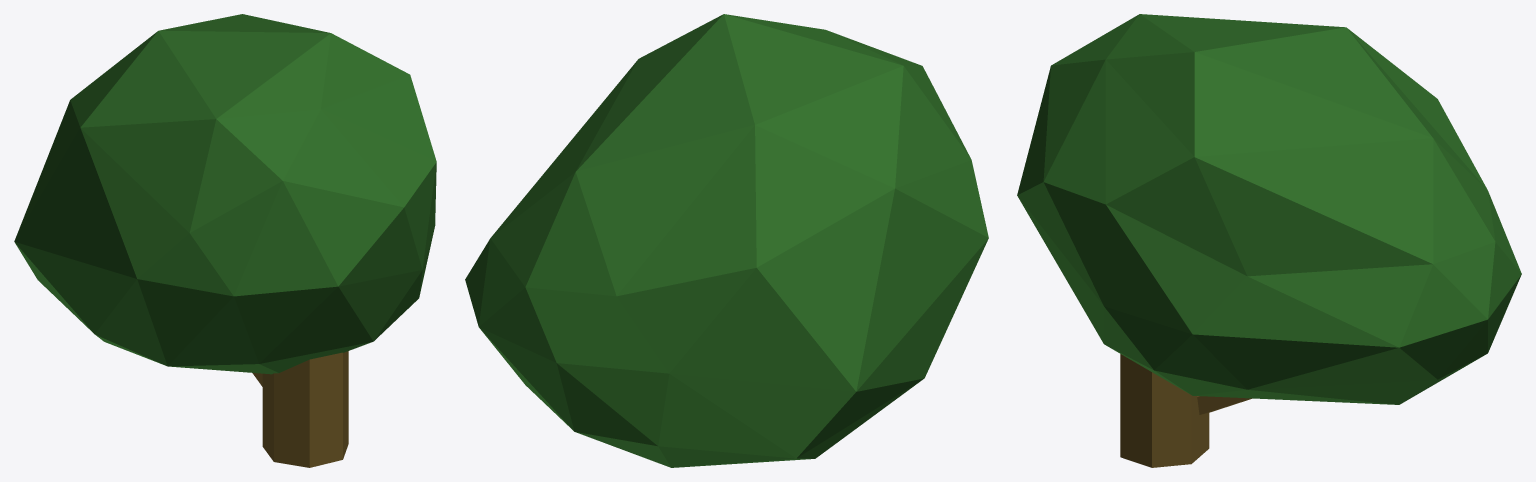
File: kustbarbar1.fbx
The picture shows the model from 3 angles, left to right: view 1: azimuth 30°, elevation 25°; view 2: azimuth 150°, elevation 25°; view 3: azimuth 270°, elevation 25°; orthographic projection. The views are drawn at different scales.
Parts seen in each view (by area): view 1: Icosphere; view 2: Icosphere; view 3: Icosphere.
Boxes of the visible parts, bbox=[...] form: Icosphere: bbox=[14, 14, 436, 467]; Icosphere: bbox=[465, 14, 988, 467]; Icosphere: bbox=[1017, 14, 1521, 467].
Bounding box in the file's own units: 388 × 403 × 442.
